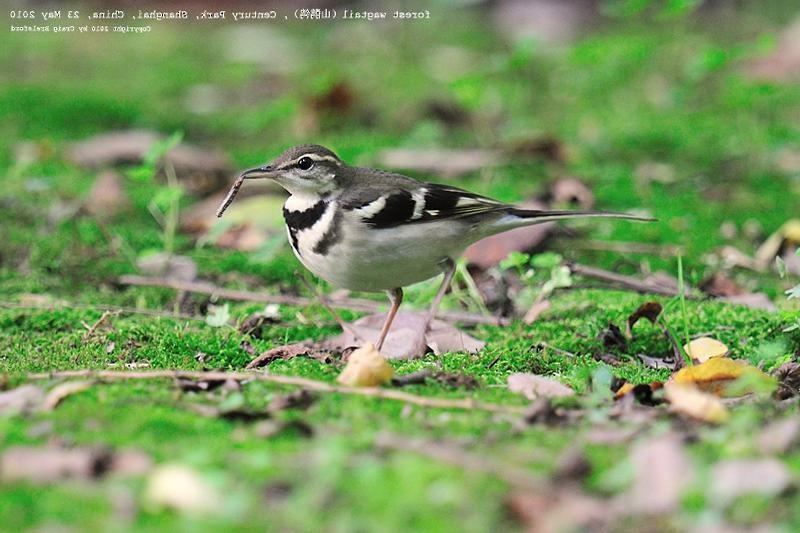wagtail: (230, 109, 628, 372)
